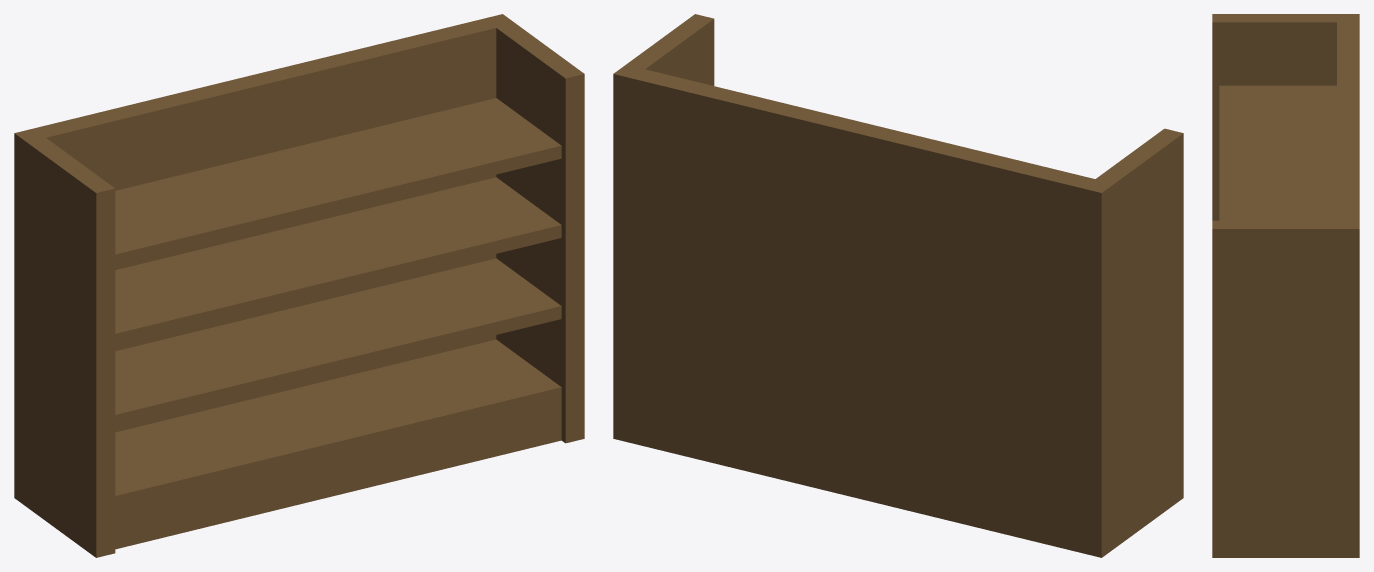
The model's file is Ma_Shelves_1.fbx.
3 views of the same model, side by side, from view 1: azimuth 30°, elevation 25°; view 2: azimuth 150°, elevation 25°; view 3: azimuth 270°, elevation 25° (orthographic). The views are drawn at different scales.
Parts seen in each view (by area): view 1: Ma_Shelves_1; view 2: Ma_Shelves_1; view 3: Ma_Shelves_1.
Boxes of the visible parts, x1,y1,x2,y2 form: Ma_Shelves_1: (14, 14, 584, 557); Ma_Shelves_1: (613, 14, 1183, 557); Ma_Shelves_1: (1212, 14, 1359, 557).
Size of the model in its own units: 1893 by 550 by 1351.
